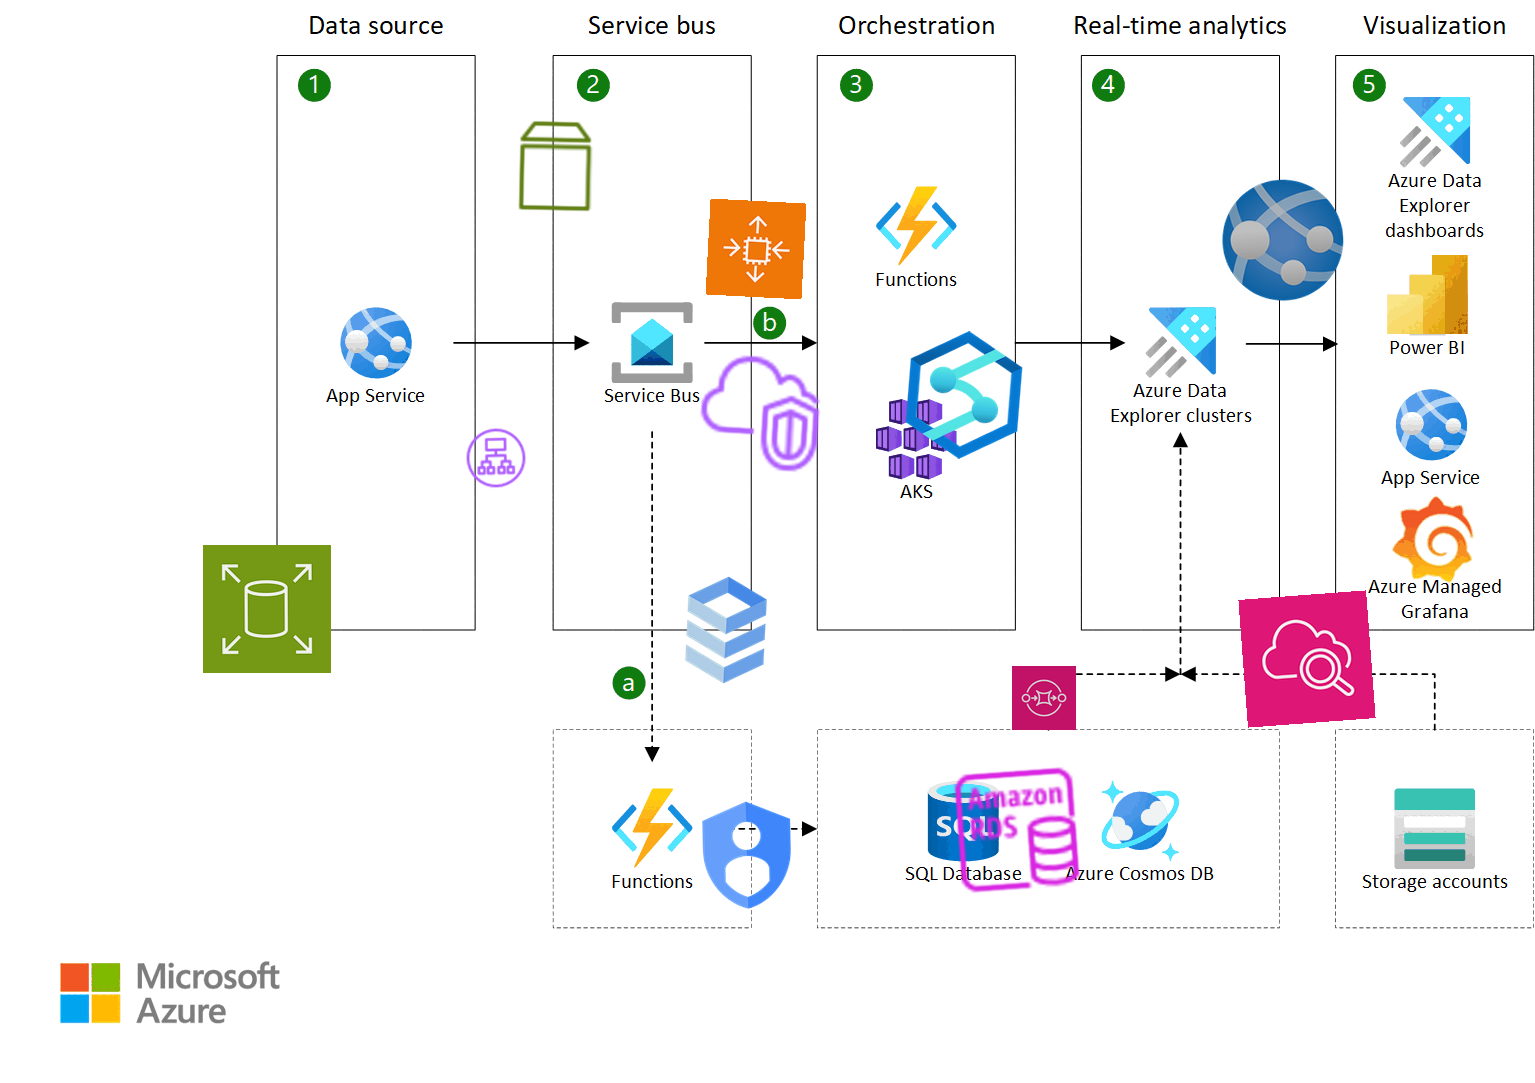aws_amazon_cloudwatch: (1239, 590, 1376, 728)
aws_amazon_ec2_auto_scaling: (705, 198, 807, 300)
aws_amazon_elastic_block_store: (202, 544, 332, 674)
aws_amazon_simple_queue_service: (1011, 665, 1077, 731)
aws_aurora_amazon_rds_instance: (948, 761, 1086, 899)
aws_elastic_block_store_volume: (506, 116, 606, 216)
aws_elastic_load_balancing_application_load_balancer: (463, 425, 528, 491)
aws_vpc_virtual_private_cloud_vpc: (693, 345, 828, 481)
azure_app_services: (1214, 171, 1352, 309)
azure_synapse_analytics: (895, 326, 1033, 464)
gcp_cloud_sql: (659, 561, 794, 699)
gcp_identity_and_access_management: (681, 789, 813, 921)
